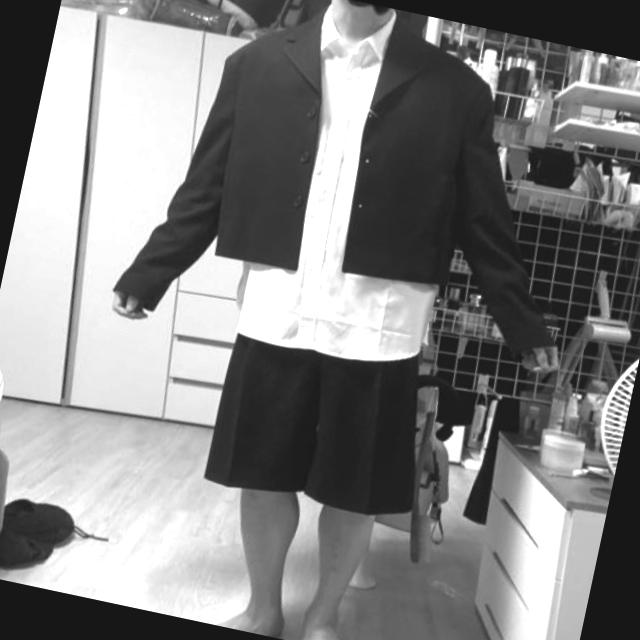blazer: (106, 0, 619, 397)
shirt: (219, 0, 498, 381)
shortpants: (200, 308, 447, 525)
